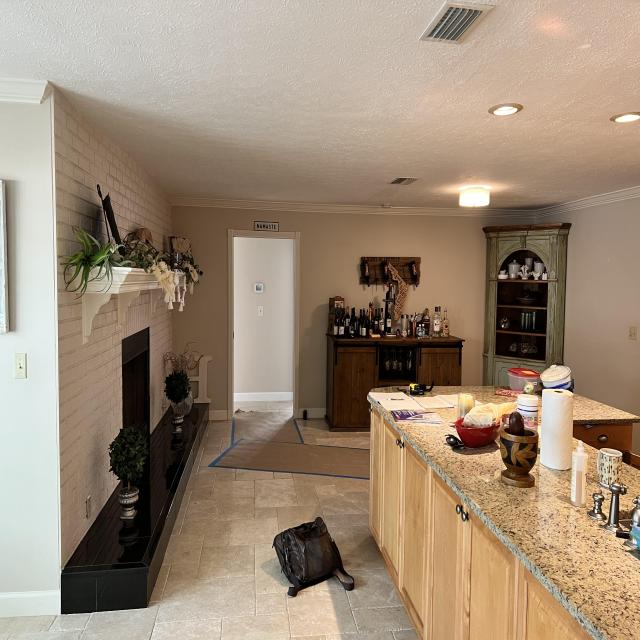Cabinet_Raised_Panel: (370, 392, 595, 639)
Countertop_Granite: (368, 384, 640, 640), (573, 396, 640, 437), (619, 463, 640, 512)
